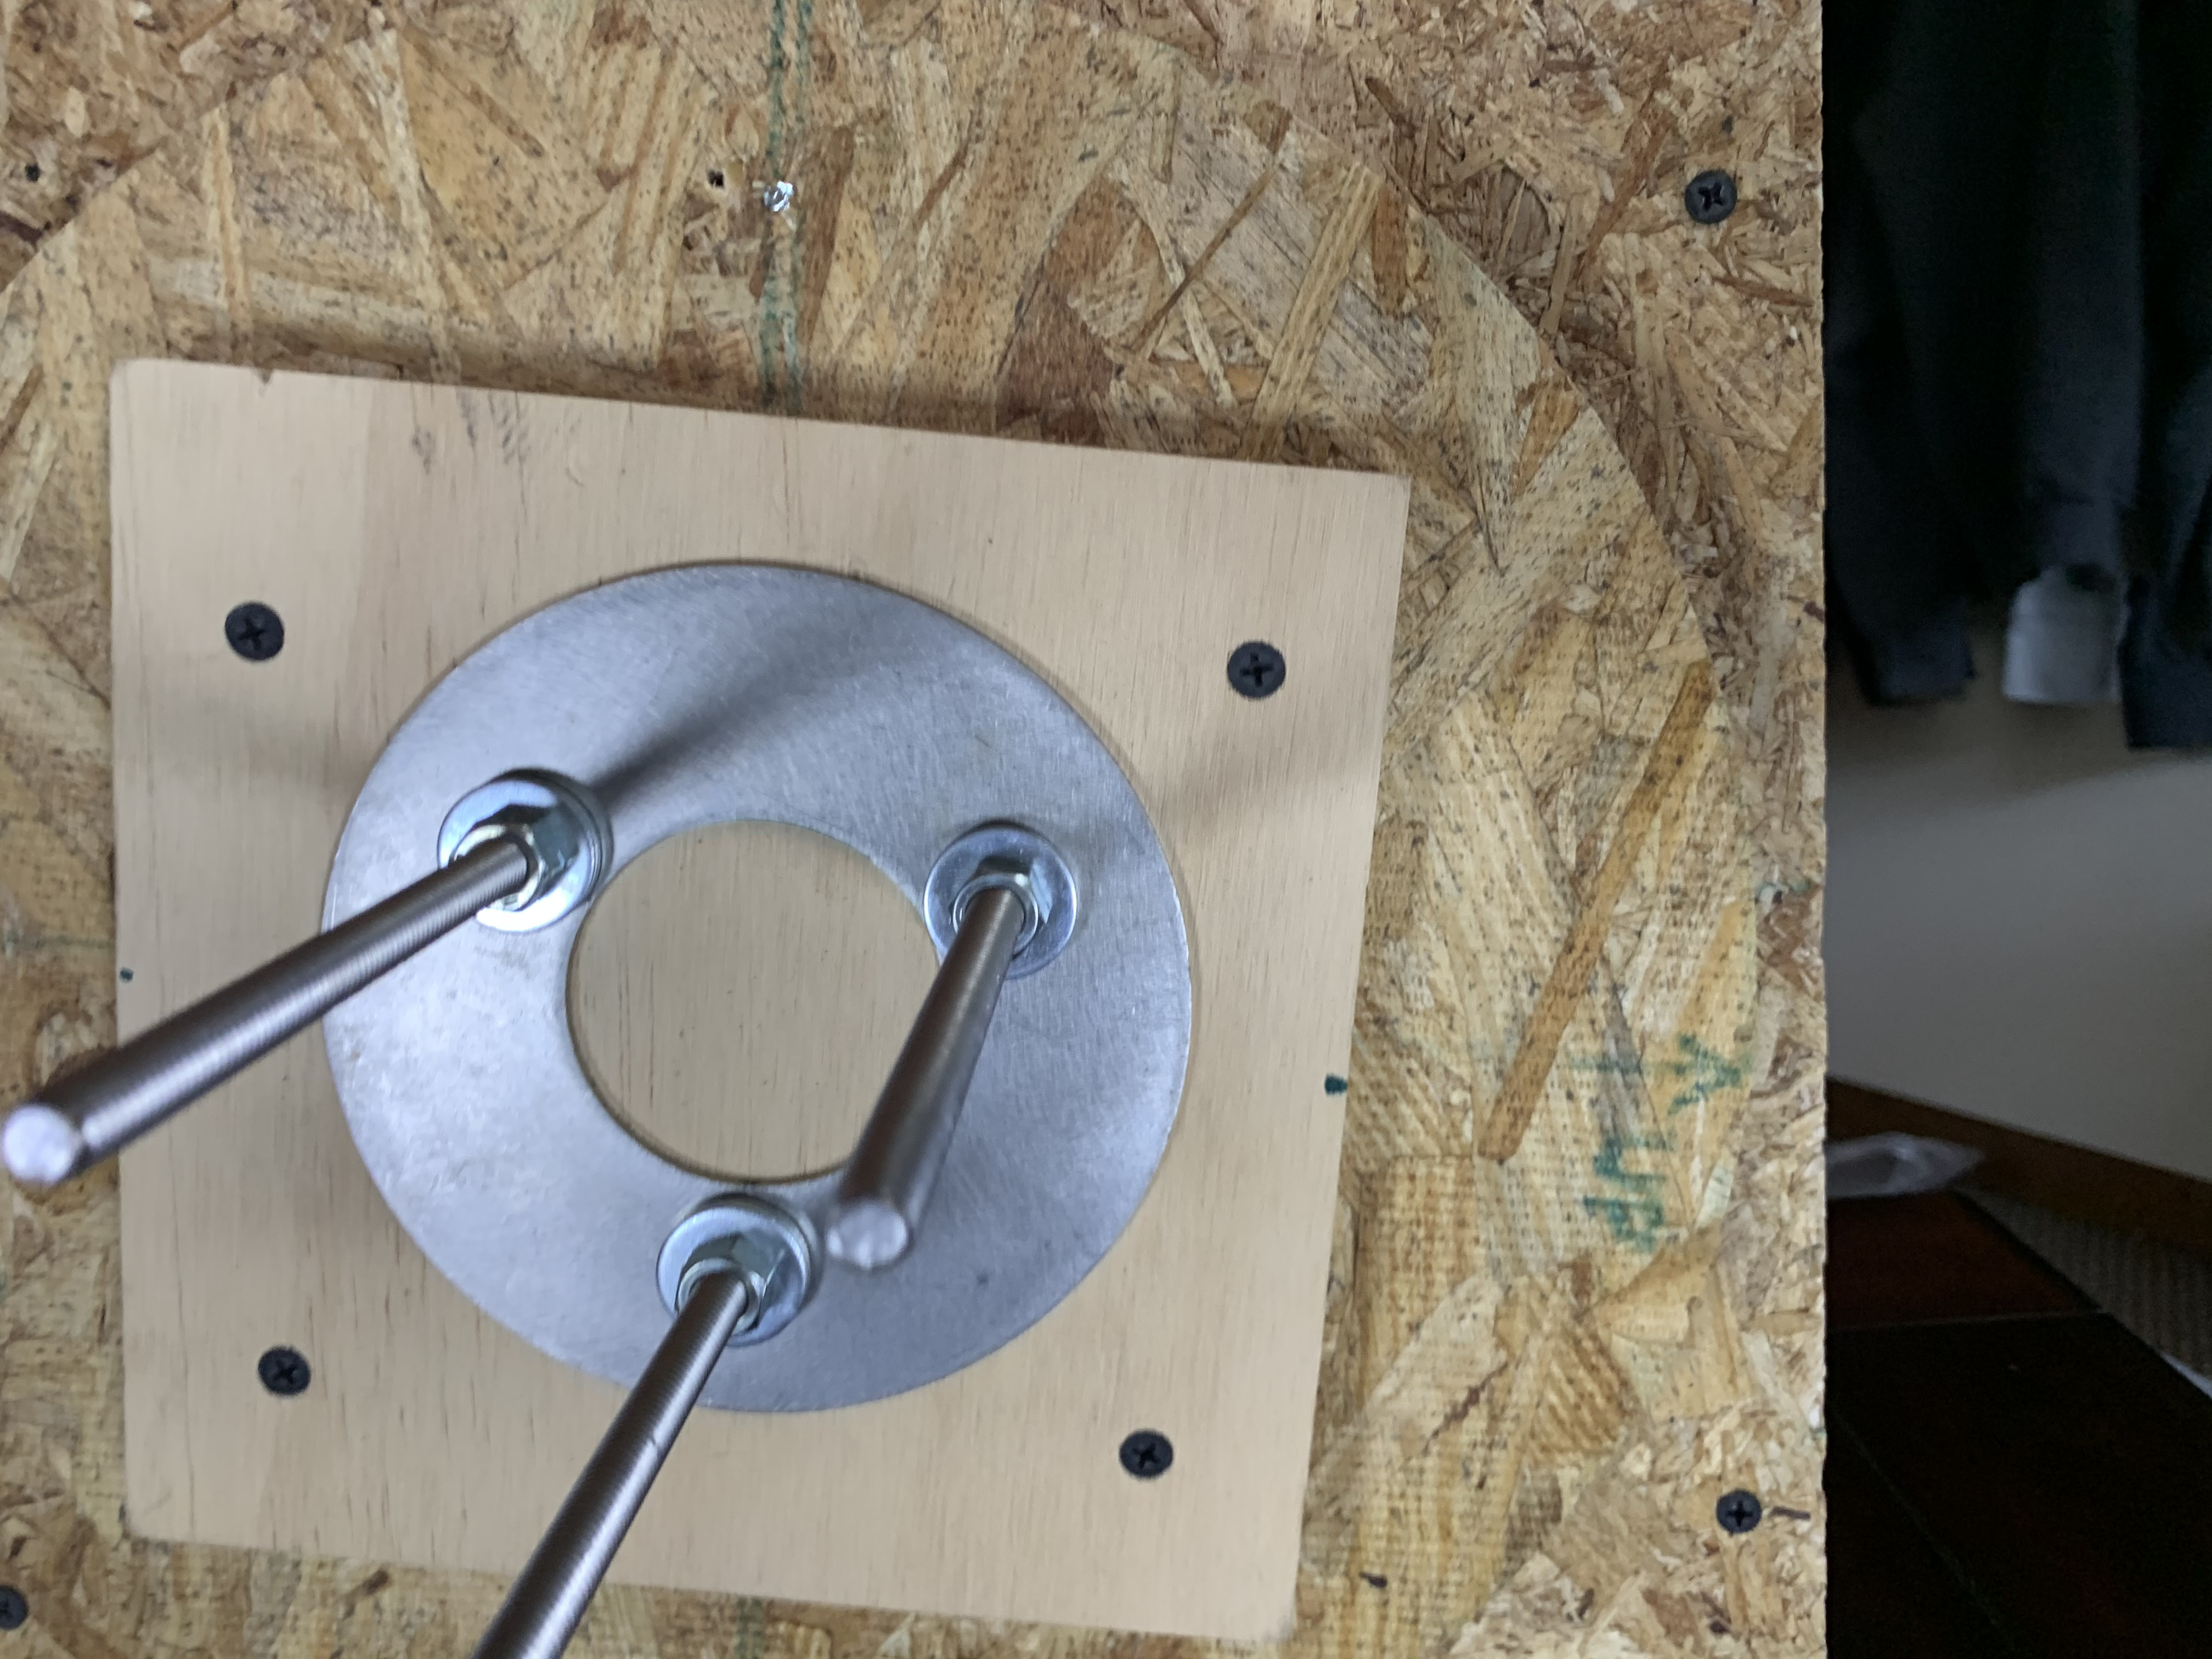bolt: (434, 767, 617, 932), (921, 819, 1080, 985), (653, 1195, 815, 1347)
